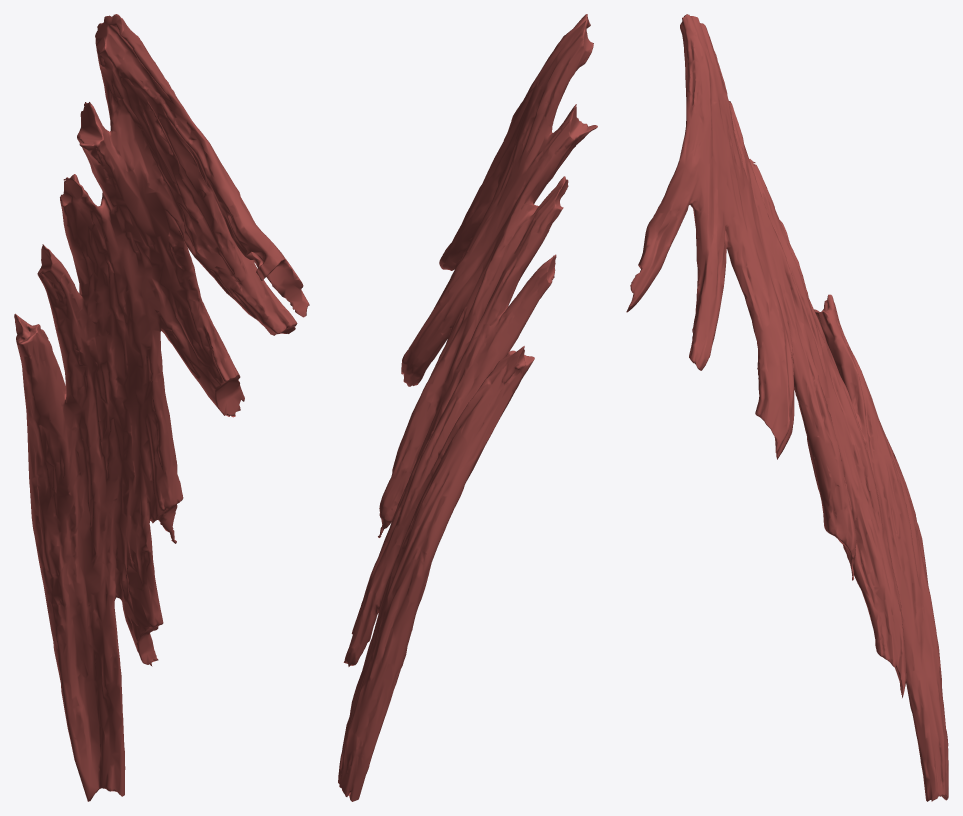
The model's file is FMA22875.glb.
The picture shows the model from 3 angles, left to right: view 1: azimuth 30°, elevation 25°; view 2: azimuth 150°, elevation 25°; view 3: azimuth 270°, elevation 25°; orthographic projection. The views are drawn at different scales.
Visible parts, largest first — view 1: FMA22875; view 2: FMA22875; view 3: FMA22875.
Boxes of the visible parts, left/top/right/bottom form: FMA22875: left=14, top=14, right=309, bottom=801; FMA22875: left=338, top=14, right=597, bottom=801; FMA22875: left=626, top=14, right=948, bottom=801.
Bounding box in the file's own units: 0.0319 × 0.136 × 0.0542.
